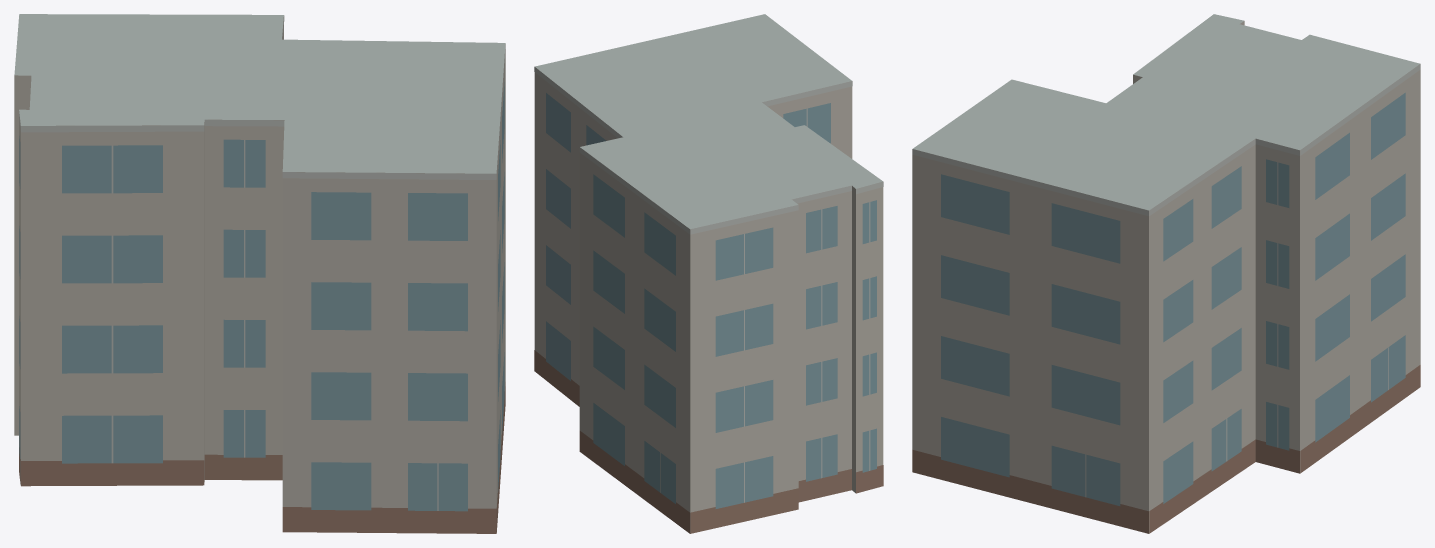
File: survey-upis-32600996.glb
3 renders of one model, left to right at view 1: azimuth 30°, elevation 25°; view 2: azimuth 150°, elevation 25°; view 3: azimuth 270°, elevation 25°, orthographic. The views are drawn at different scales.
Visible parts, largest first — view 1: survey-upis-32600996.tmp; view 2: survey-upis-32600996.tmp; view 3: survey-upis-32600996.tmp.
Part boxes in pixels (x1,y1,x2,y2): survey-upis-32600996.tmp: (14, 14, 505, 533); survey-upis-32600996.tmp: (534, 14, 883, 533); survey-upis-32600996.tmp: (912, 14, 1420, 533).
Size of the model in its own units: 17.87 by 13.7 by 19.52.
